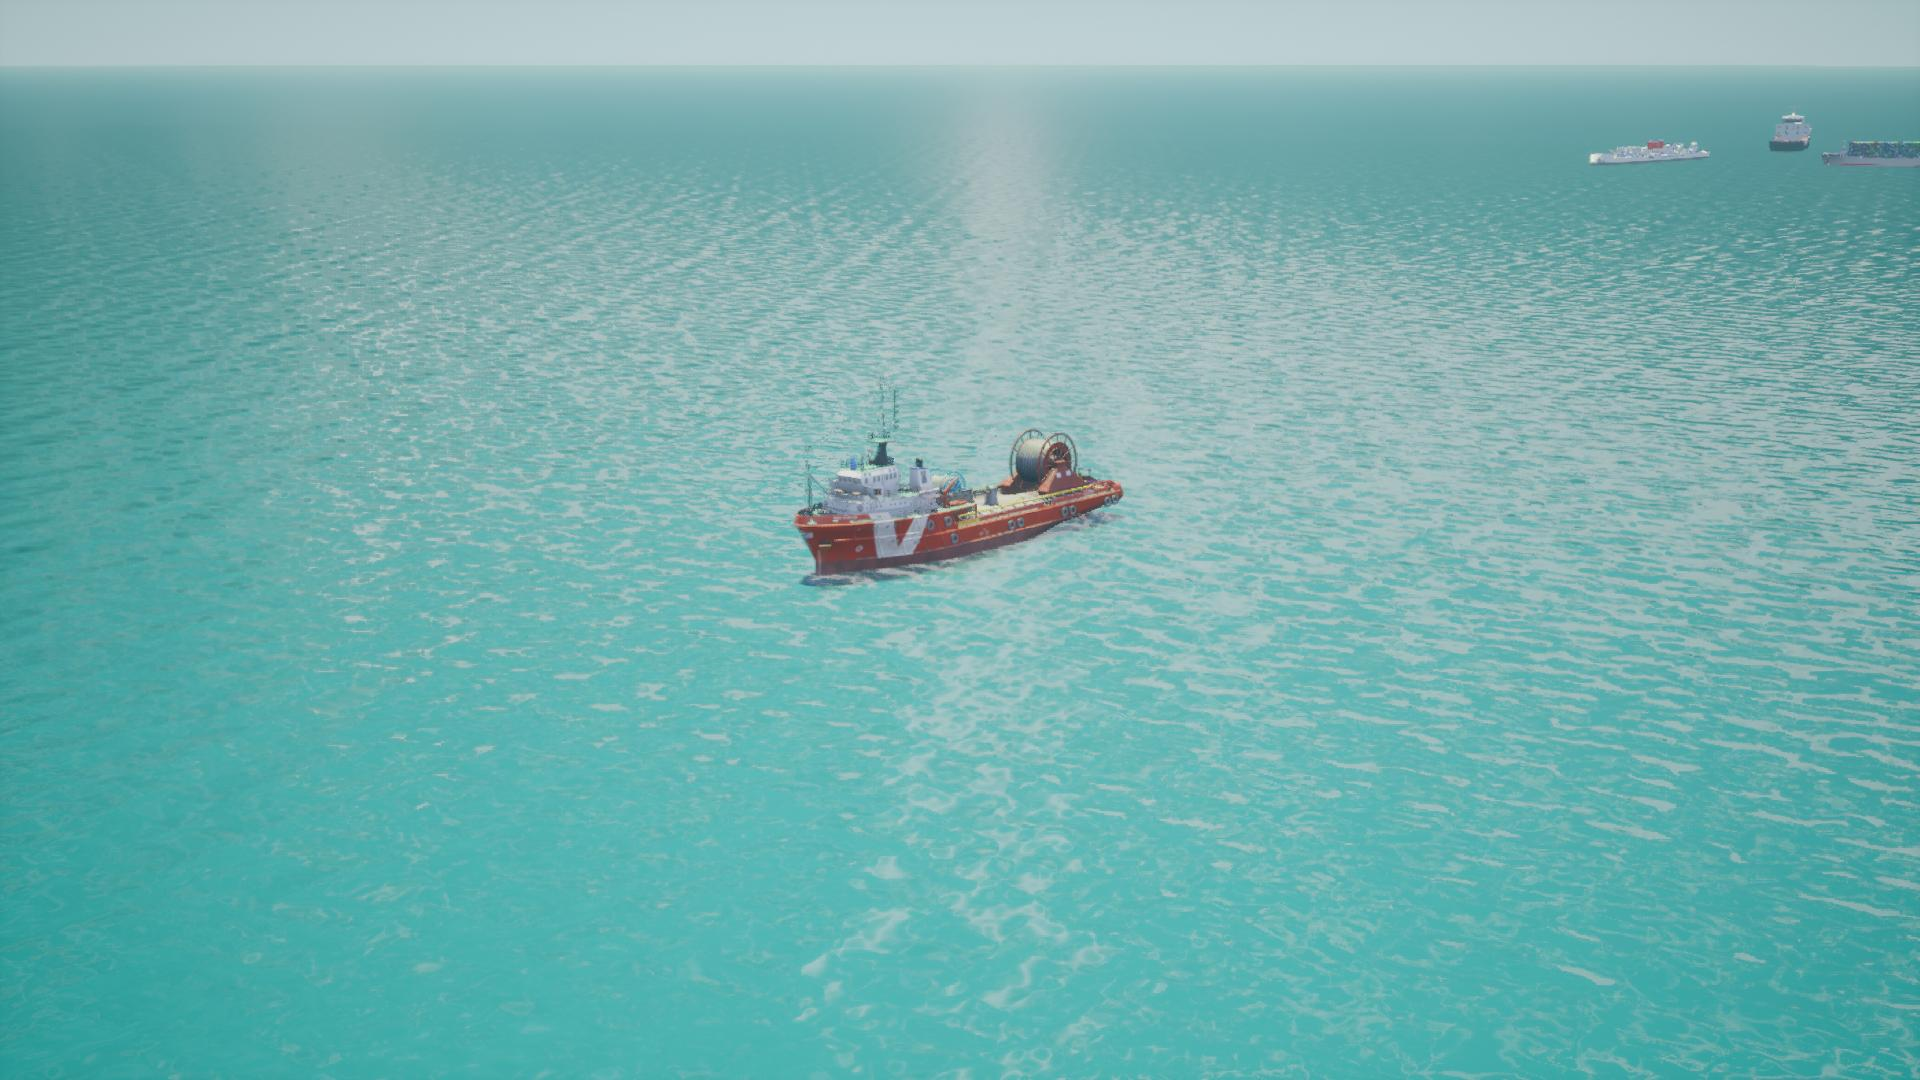Tug Boat: (790, 429, 1124, 583)
